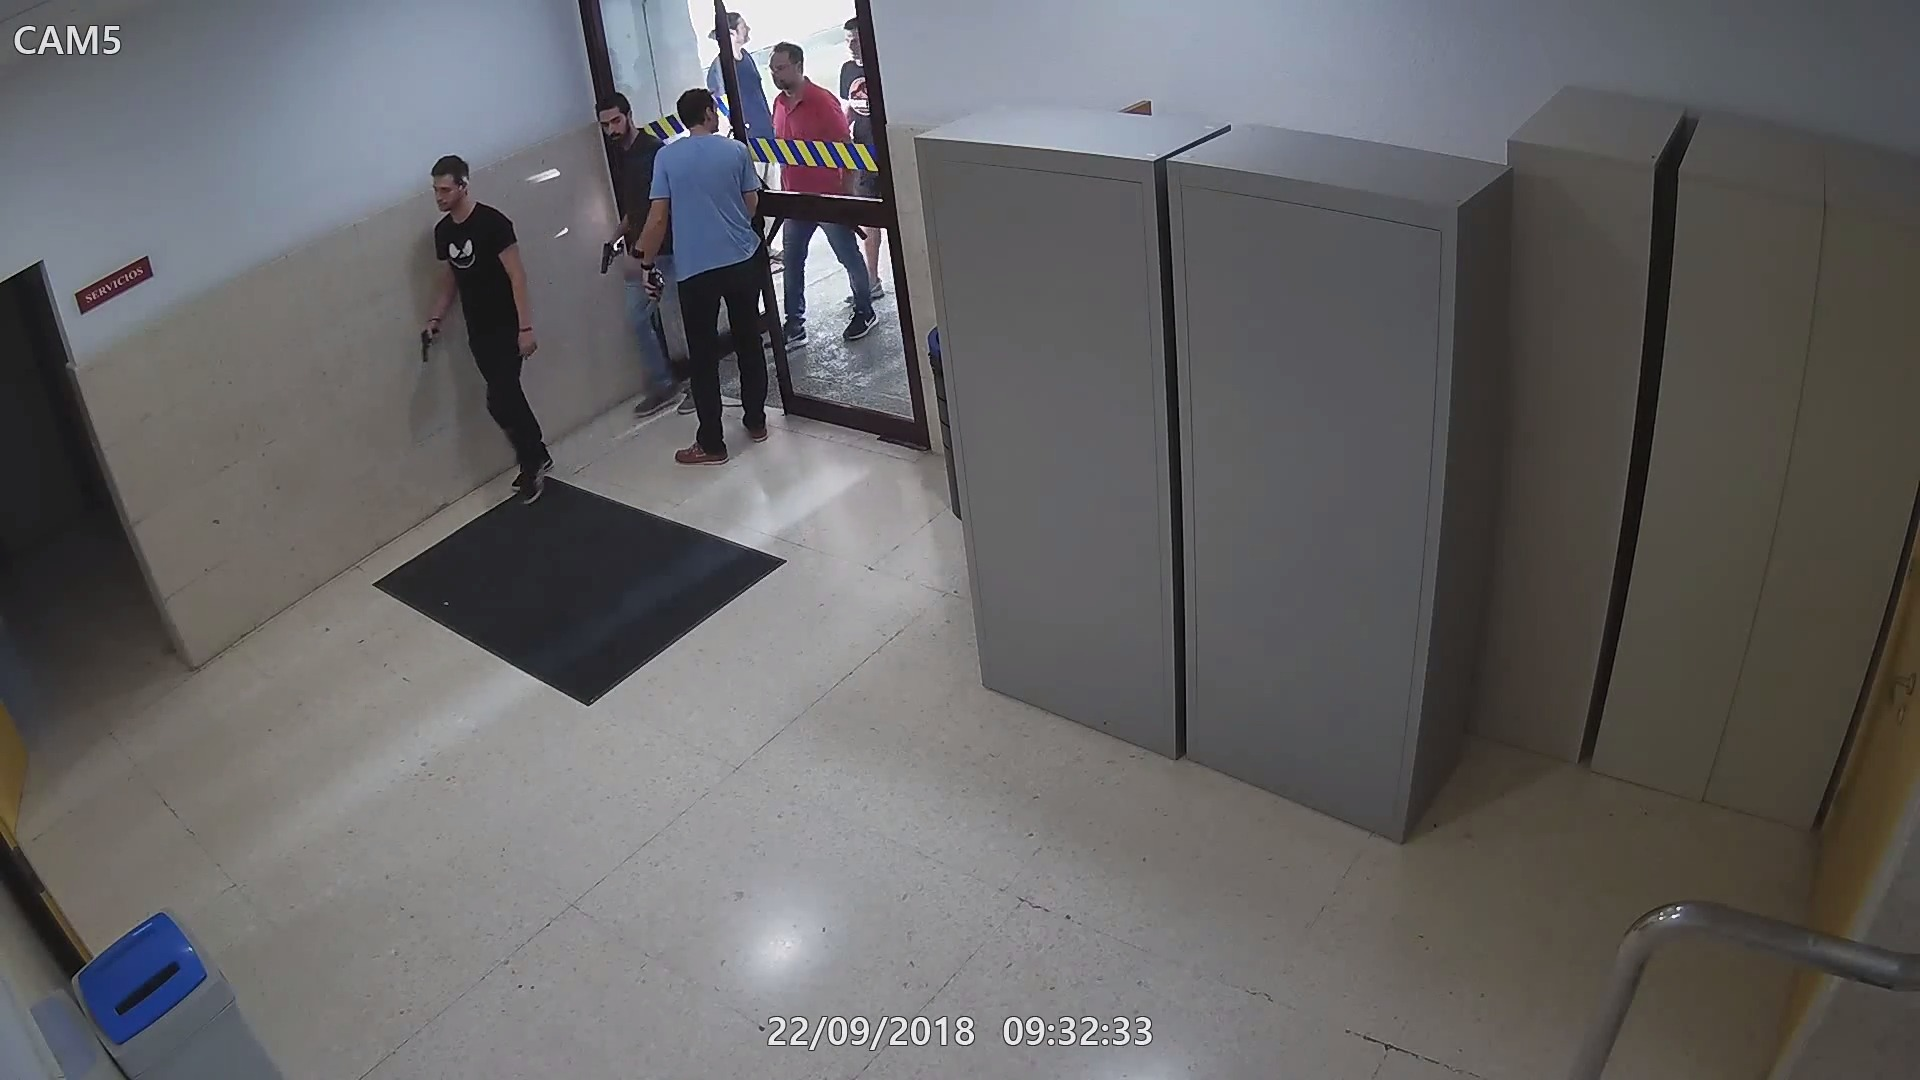Handgun: (415, 319, 442, 367), (597, 233, 626, 273), (640, 266, 667, 305)
Knife: (641, 272, 669, 323)
